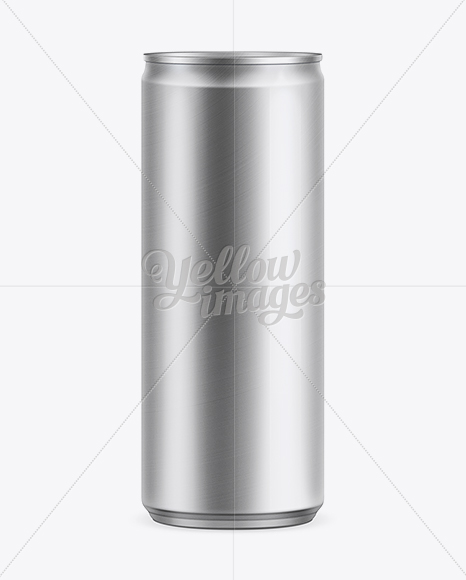metal: (138, 47, 328, 532)
